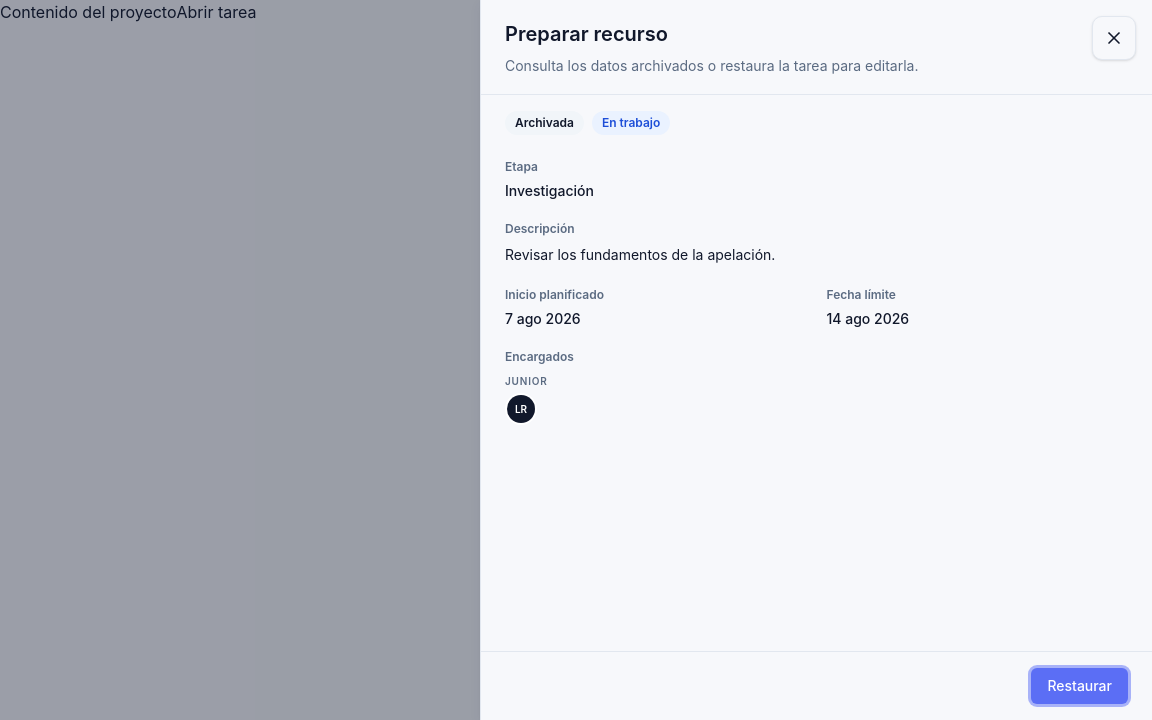
Test: ProjectTaskSheet › refreshes and shows the current task after a restore conflict
Click the button "Restaurar". click: (1080, 686)
box: [1031, 668, 1128, 704]
(page scrolled)
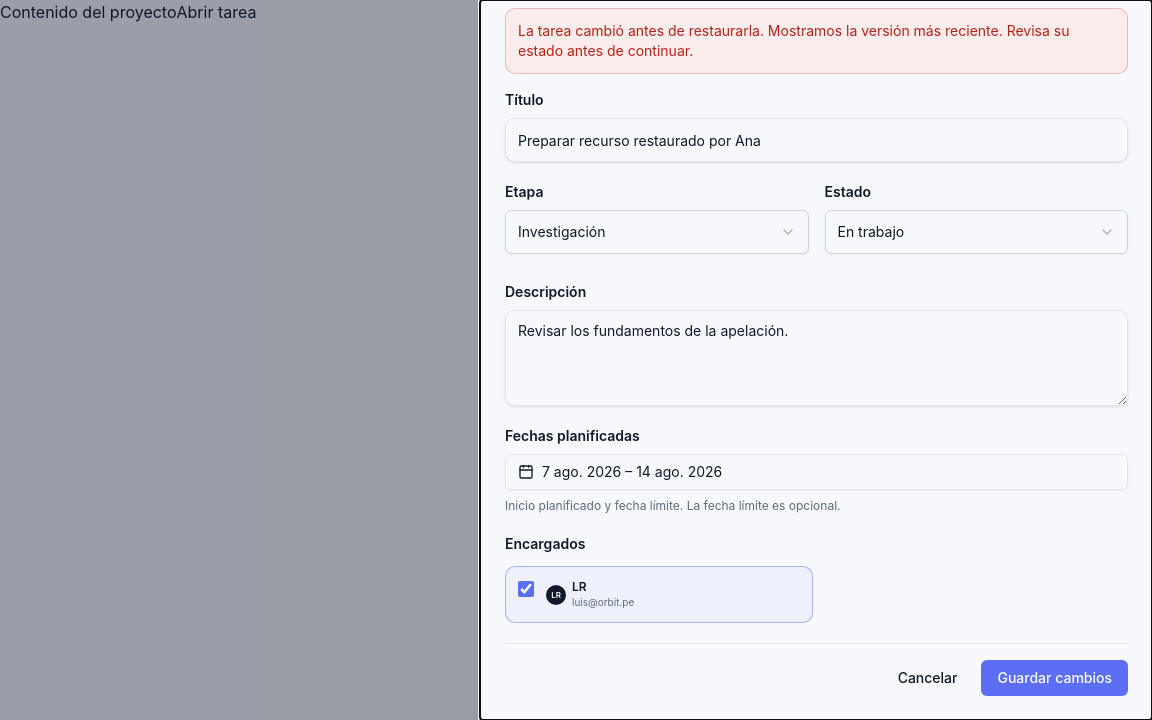
Now the message shows "La tarea cambió antes de restaurarla. Mostramos la versión más reciente. Revisa su estado antes de continuar.", box [518, 22, 1070, 59]
Now the field labelled "Título" holds "Preparar recurso restaurado por Ana", box [505, 118, 1128, 162]
Now the button "Guardar cambios" is enabled, box [982, 660, 1128, 696]
